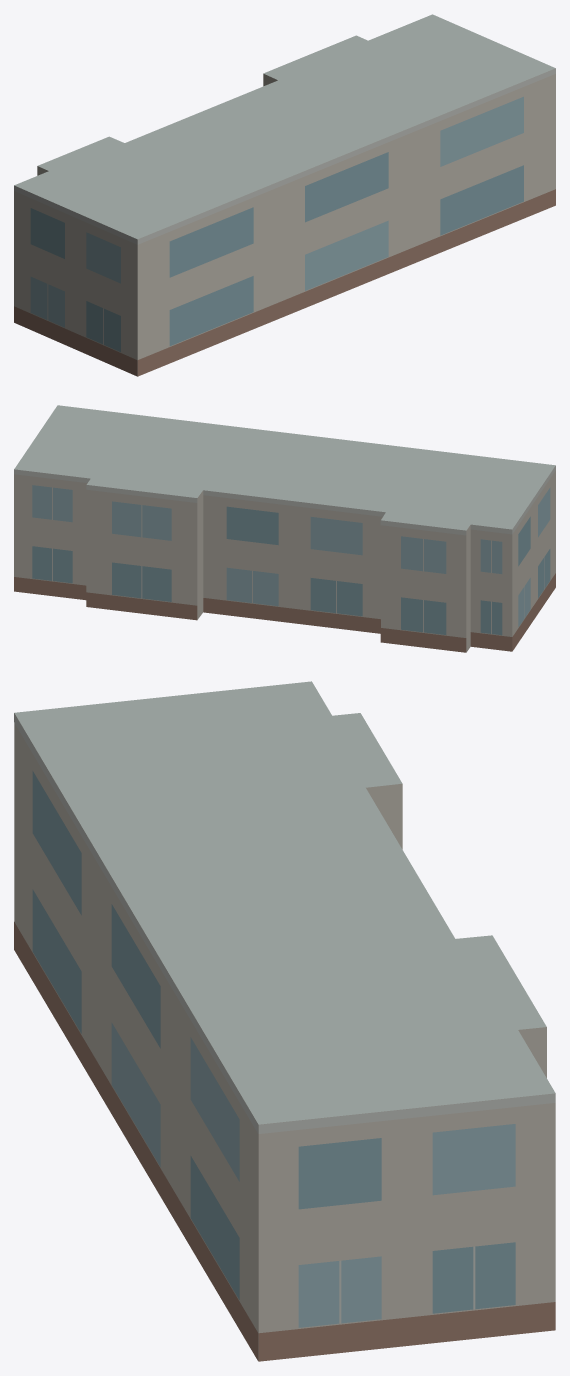
Rendered from survey-upis-32716203.glb.
The picture shows the model from 3 angles, top to bottom: view 1: azimuth 30°, elevation 25°; view 2: azimuth 150°, elevation 25°; view 3: azimuth 270°, elevation 25°; orthographic projection. The views are drawn at different scales.
Visible parts, largest first — view 1: survey-upis-32716203.tmp; view 2: survey-upis-32716203.tmp; view 3: survey-upis-32716203.tmp.
Boxes of the visible parts, left/top/right/bottom form: survey-upis-32716203.tmp: left=14, top=14, right=555, bottom=376; survey-upis-32716203.tmp: left=14, top=405, right=555, bottom=652; survey-upis-32716203.tmp: left=14, top=681, right=555, bottom=1361.
Bounding box in the file's own units: 24.5 × 6.1 × 12.65.
